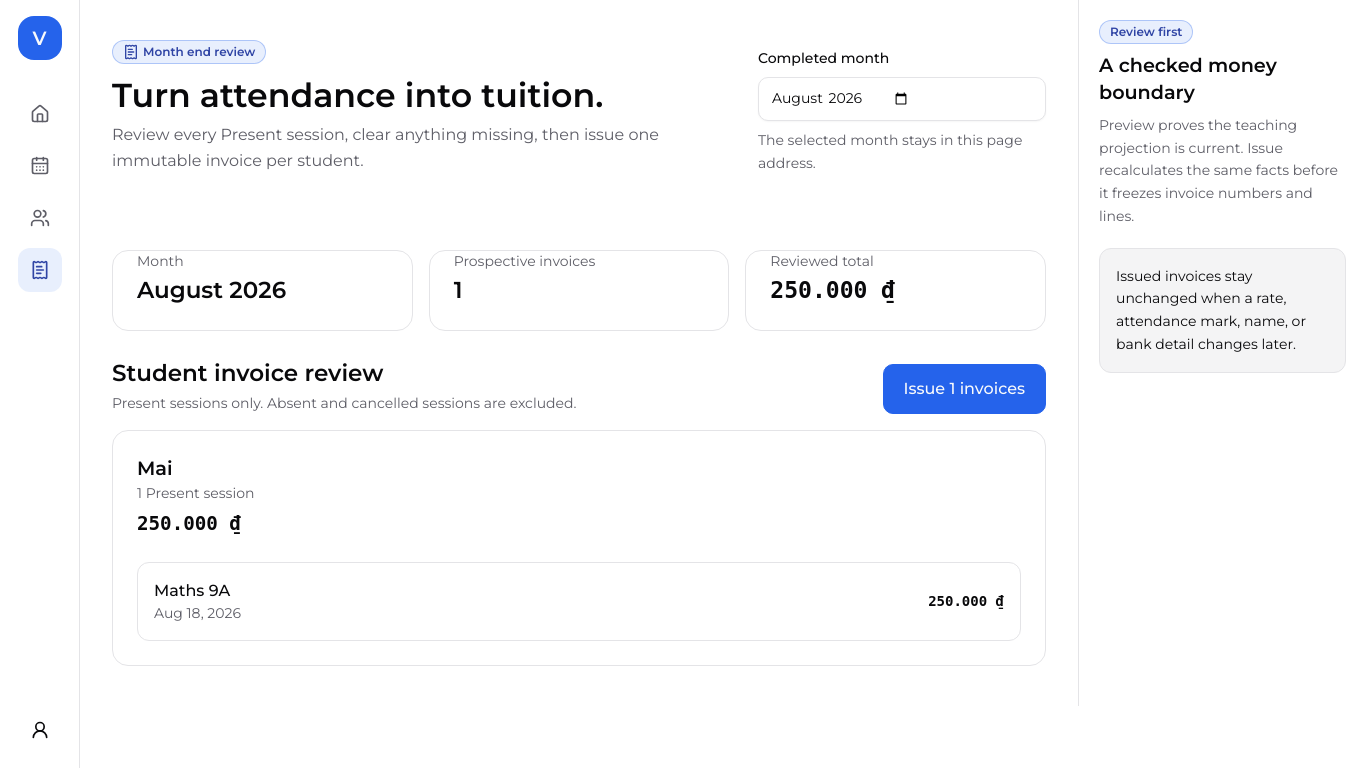
Test: BillingPage › keeps issue unavailable when the authoritative recovery read fails
Click the button "Issue 1 invoices" at (964, 389), box [882,364,1046,414]
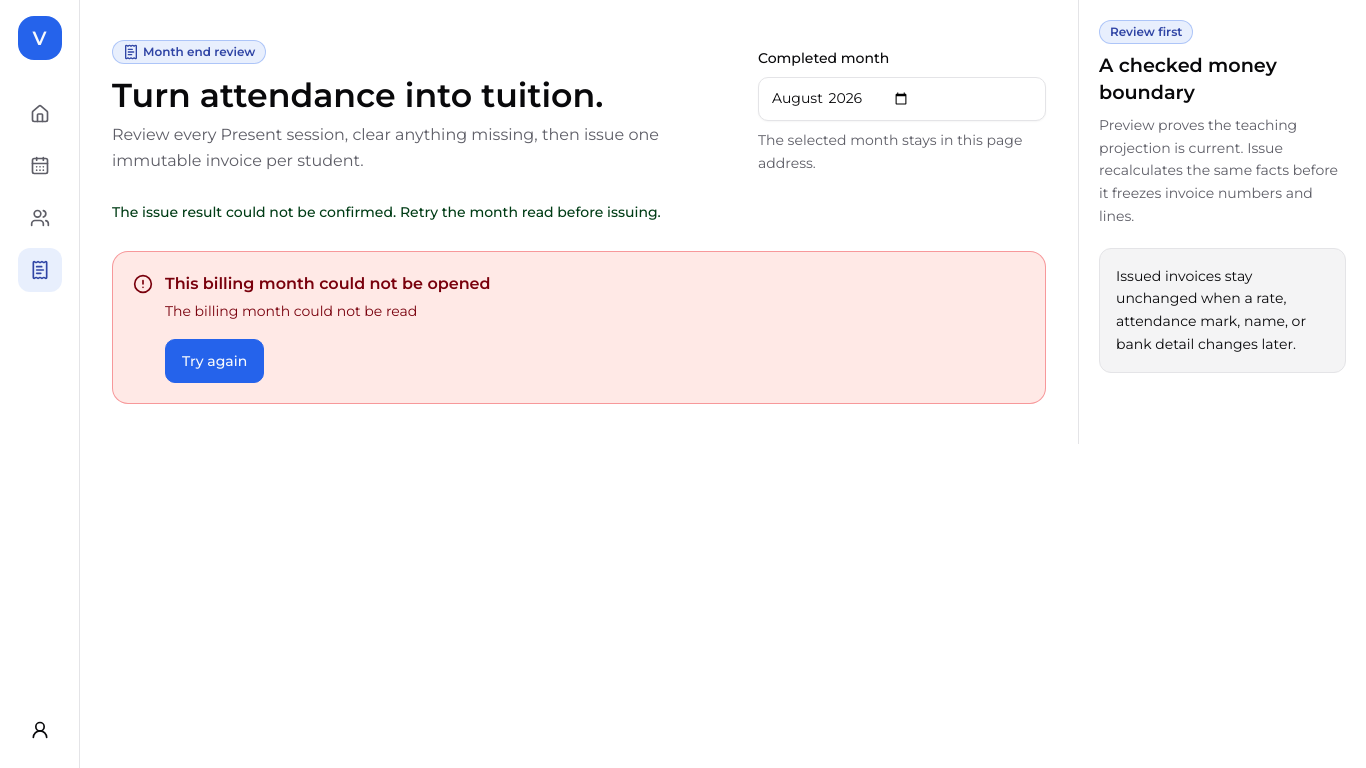
Result: the heading "This billing month could not be opened" is shown at [165,272,491,296]
